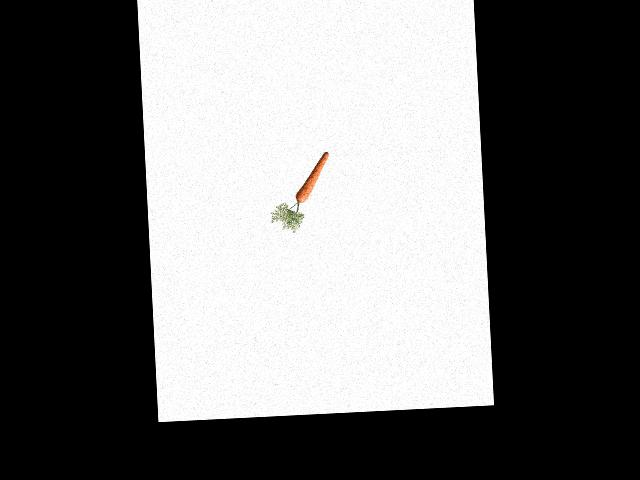carrot: (291, 149, 333, 208)
